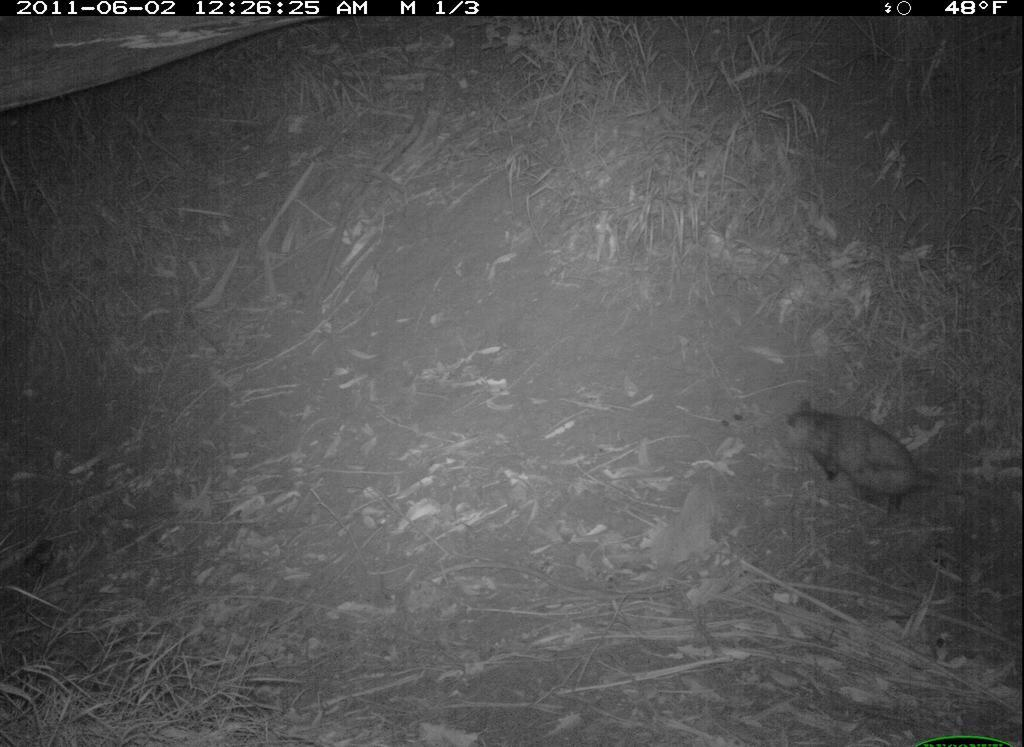opossum: (762, 387, 1008, 543)
